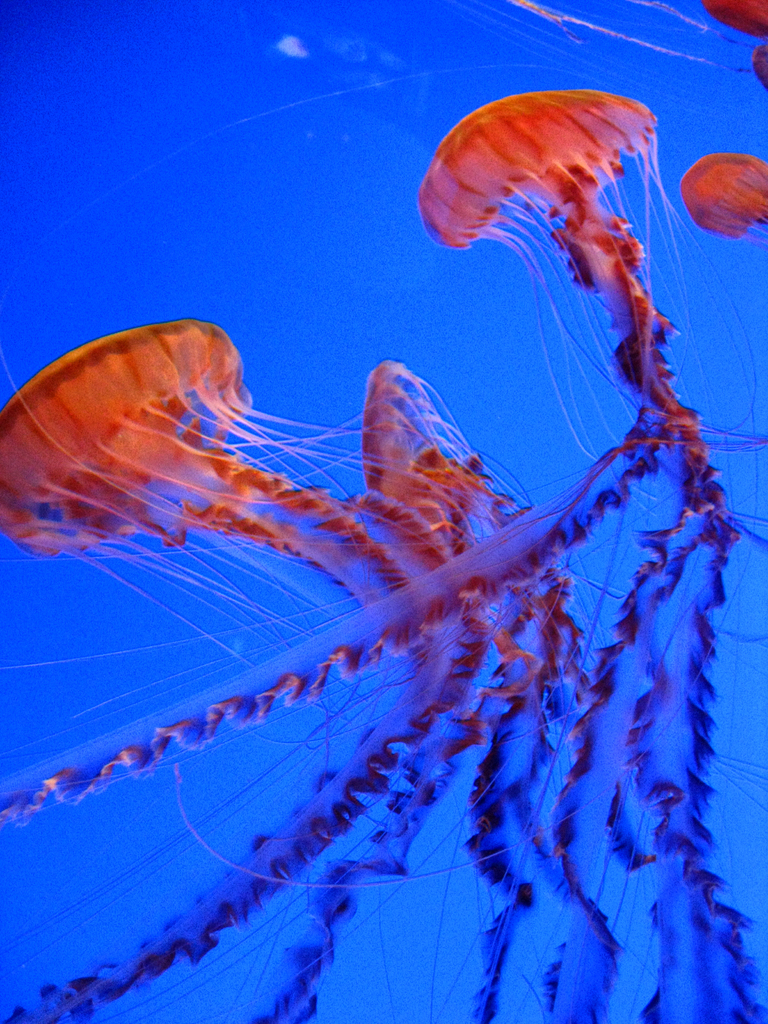Jellyfish: (19, 106, 768, 1023), (413, 90, 711, 524), (354, 351, 510, 522), (675, 153, 765, 242), (700, 0, 767, 37)
